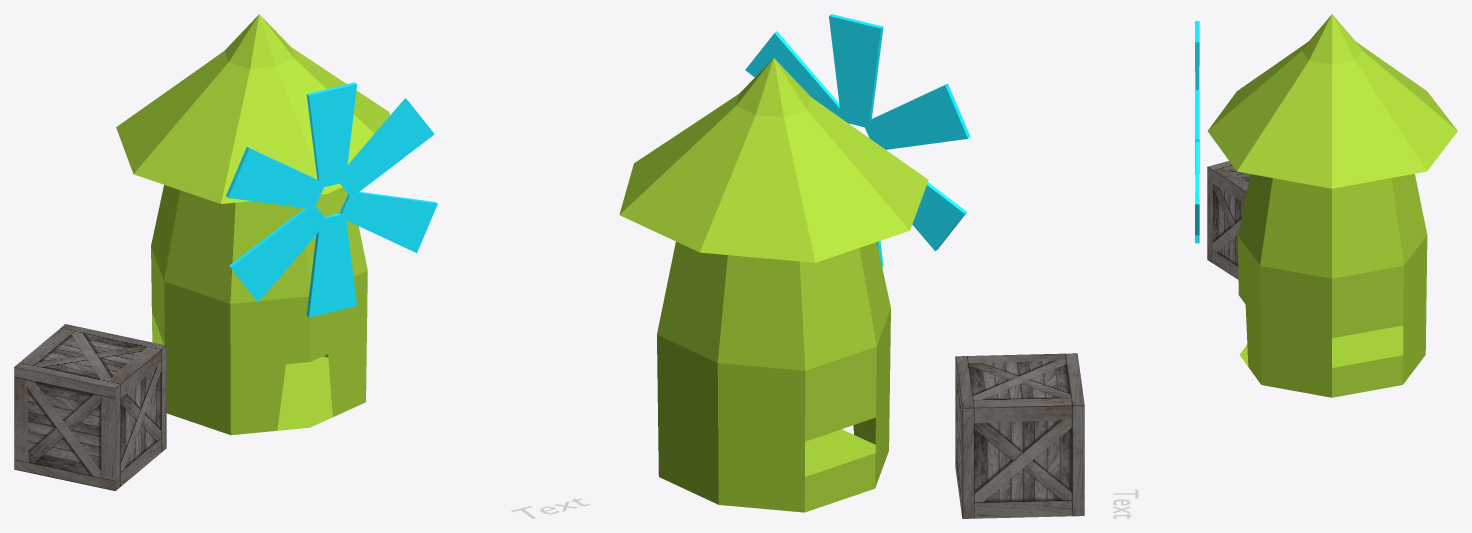
The model's file is windmill.glb.
3 renders of one model, left to right at view 1: azimuth 30°, elevation 25°; view 2: azimuth 150°, elevation 25°; view 3: azimuth 270°, elevation 25°, orthographic. The views are drawn at different scales.
Visible parts, largest first — view 1: Mill, Fan, Goods; view 2: Mill, Goods, Fan; view 3: Mill, Goods, Fan.
Boxes of the visible parts, x1=… form: Mill: x1=116, y1=14, x2=402, y2=435; Fan: x1=226, y1=82, x2=437, y2=317; Goods: x1=14, y1=324, x2=166, y2=490; Mill: x1=619, y1=58, x2=928, y2=512; Goods: x1=955, y1=353, x2=1084, y2=518; Fan: x1=745, y1=14, x2=970, y2=266; Mill: x1=1207, y1=14, x2=1457, y2=397; Goods: x1=1207, y1=161, x2=1249, y2=279; Fan: x1=1195, y1=21, x2=1199, y2=243.
Size of the model in its own units: 81.69 by 74.21 by 56.37.
Materials: 4 (1 with a texture image).
